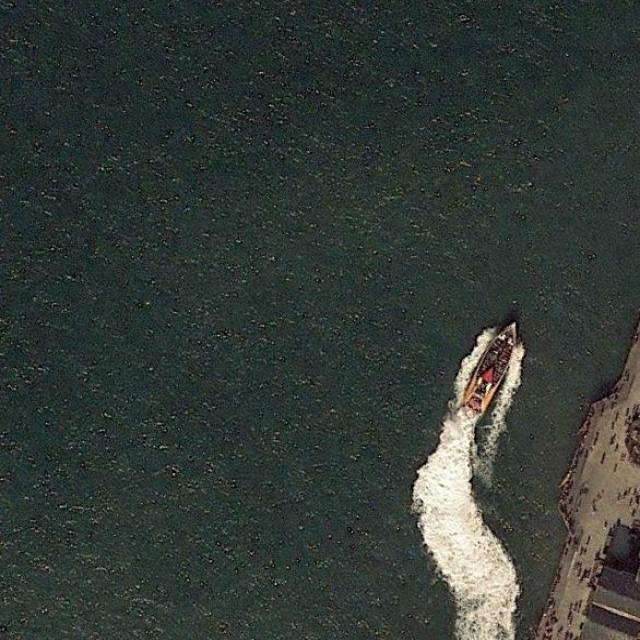ship: (462, 319, 519, 415)
